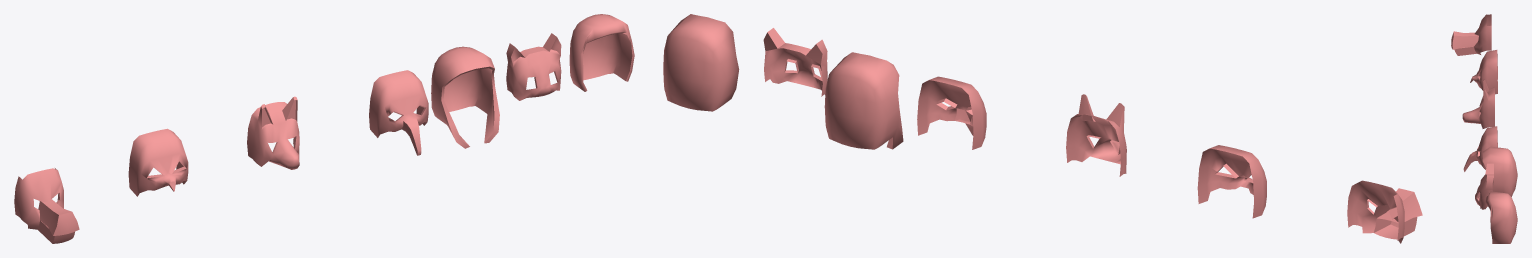
The model's file is mascaras.FBX.
3 views of the same model, side by side, from view 1: azimuth 30°, elevation 25°; view 2: azimuth 150°, elevation 25°; view 3: azimuth 270°, elevation 25° (orthographic). The views are drawn at different scales.
Parts seen in each view (by area): view 1: peluca hombre, peluca mujer, cabeza de thoth, cabeza de Sobek, cabeza de orus, cabeza de anubis, cabeza de bastet; view 2: peluca hombre, peluca mujer, cabeza de Sobek, cabeza de thoth, cabeza de orus, cabeza de anubis, cabeza de bastet; view 3: peluca mujer, peluca hombre, cabeza de Sobek, cabeza de anubis, cabeza de orus, cabeza de thoth, cabeza de bastet.
Part boxes in pixels (box(x1,y1,x2,y2)): peluca hombre: box(431, 46, 499, 148); peluca mujer: box(569, 14, 634, 91); cabeza de thoth: box(369, 70, 428, 155); cabeza de Sobek: box(14, 168, 79, 243); cabeza de orus: box(128, 128, 188, 196); cabeza de anubis: box(247, 96, 299, 169); cabeza de bastet: box(506, 33, 561, 100); peluca hombre: box(824, 52, 903, 149); peluca mujer: box(663, 14, 739, 111); cabeza de Sobek: box(1347, 180, 1422, 243); cabeza de thoth: box(917, 76, 986, 149); cabeza de orus: box(1197, 145, 1266, 218); cabeza de anubis: box(1066, 94, 1126, 176); cabeza de bastet: box(763, 28, 827, 96); peluca mujer: box(1485, 191, 1517, 243); peluca hombre: box(1480, 146, 1517, 208); cabeza de Sobek: box(1451, 14, 1491, 55); cabeza de anubis: box(1462, 79, 1494, 128); cabeza de orus: box(1470, 50, 1497, 94); cabeza de thoth: box(1463, 126, 1497, 171); cabeza de bastet: box(1475, 163, 1493, 209).
Bounding box in the file's own units: 7.52 × 1.08 × 1.05.
